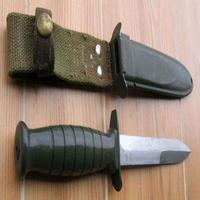knife: (10, 111, 200, 188)
